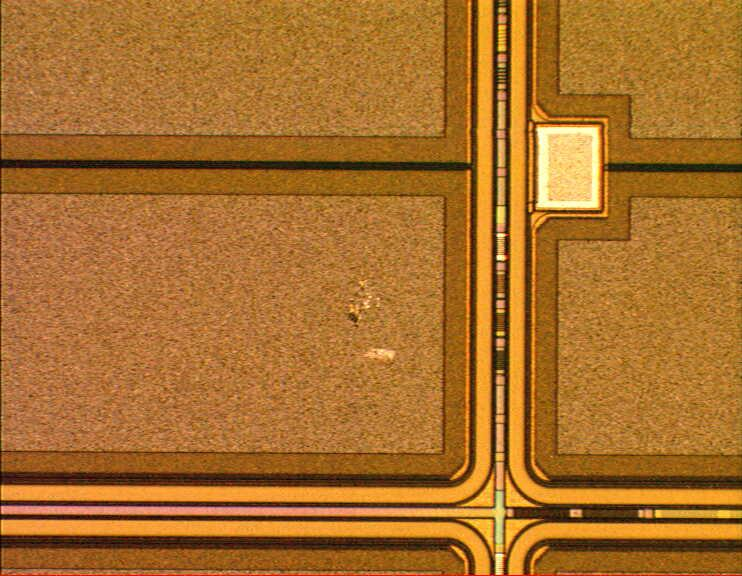SCRATCH: (340, 271, 402, 373)
